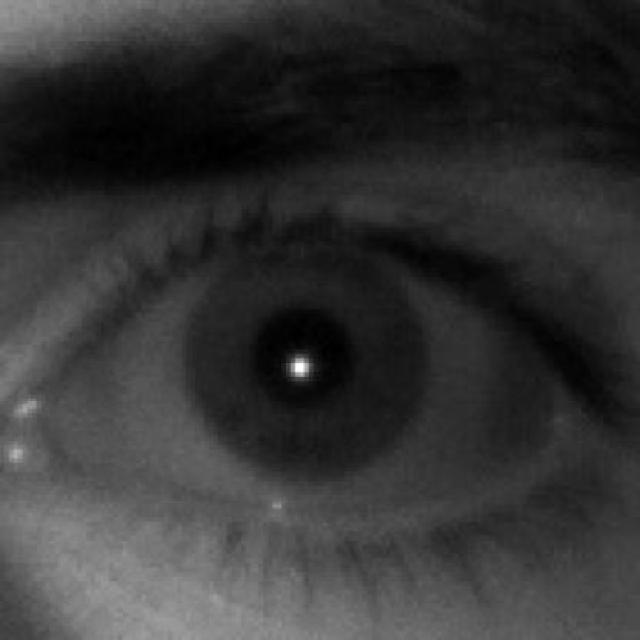awake: (0, 166, 635, 577)
